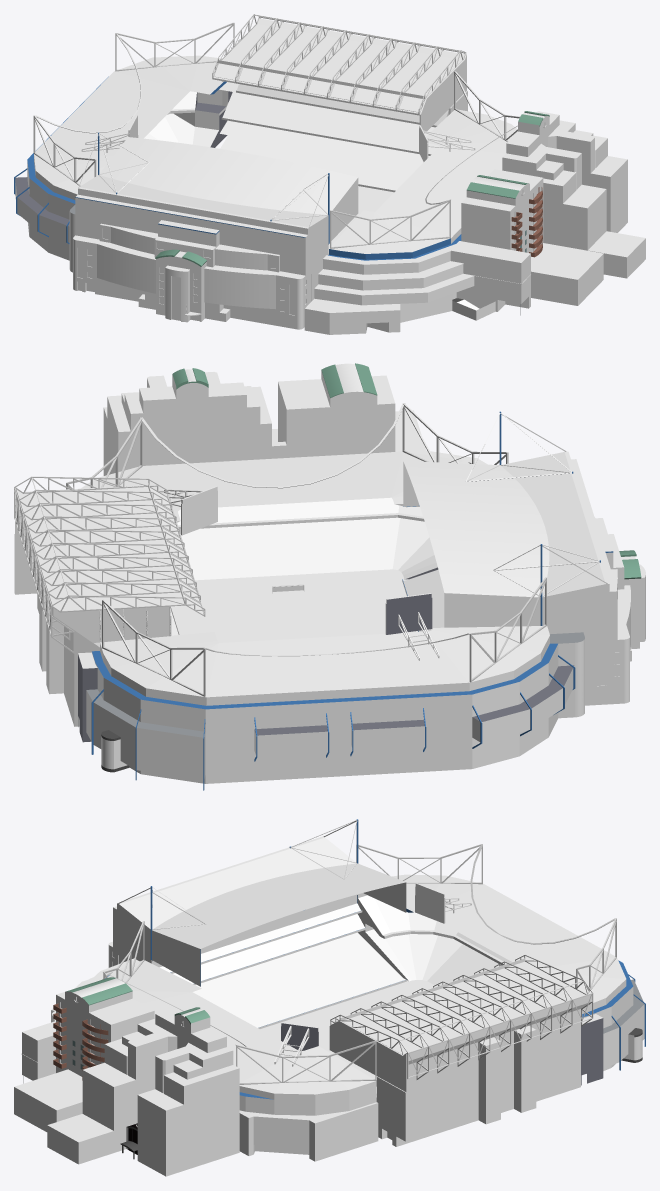
Rendered from chelsea-model.fbx.
3 views of the same model, one above another, from view 1: azimuth 30°, elevation 25°; view 2: azimuth 150°, elevation 25°; view 3: azimuth 270°, elevation 25° (orthographic). The views are drawn at different scales.
Visible parts, largest first — view 1: Layer0_001, Layer1_001, Group_008, Group_010, Group_009, Group_007, football pitch 2_001, Group_040, Group_039; view 2: Layer0_001, football pitch 2_001, Group_037, Group_010, Group_035, Group_009, Group_001, Group_015, Group_025, Group_005, Group_004, Group_003 (+8 smaller); view 3: Layer0_001, football pitch 2_001, Group_007, Group_037, Group_009, Group_035, Group_010, Group_002, Group_008, Group_013, Group_003, Group_001 (+5 smaller).
Part boxes in pixels (x1,y1,x2,y2): Layer0_001: [15, 14, 645, 334]; Layer1_001: [237, 84, 448, 125]; Group_008: [330, 199, 450, 248]; Group_010: [115, 22, 234, 71]; Group_009: [33, 115, 96, 186]; Group_007: [454, 71, 519, 141]; football pitch 2_001: [328, 190, 390, 253]; Group_040: [221, 118, 431, 155]; Group_039: [236, 90, 436, 127]; Layer0_001: [14, 363, 645, 783]; football pitch 2_001: [183, 582, 406, 642]; Group_037: [385, 593, 432, 634]; Group_010: [102, 599, 205, 696]; Group_035: [181, 486, 217, 535]; Group_009: [469, 577, 546, 682]; Group_001: [51, 595, 205, 653]; Group_015: [47, 582, 200, 640]; Group_025: [14, 476, 168, 523]; Group_005: [38, 555, 192, 602]; Group_004: [34, 542, 188, 589]; Group_003: [30, 529, 184, 576]; Layer0_001: [14, 819, 644, 1176]; football pitch 2_001: [265, 982, 428, 1089]; Group_007: [236, 1040, 376, 1084]; Group_037: [415, 883, 445, 923]; Group_009: [356, 844, 482, 884]; Group_035: [281, 1022, 318, 1050]; Group_010: [576, 918, 616, 993]; Group_002: [391, 994, 470, 1066]; Group_008: [103, 921, 144, 983]; Group_013: [371, 1001, 449, 1073]; Group_003: [412, 988, 490, 1059]; Group_001: [515, 954, 593, 1026].
Bounding box in the file's own units: 9050 × 2308 × 9818.
